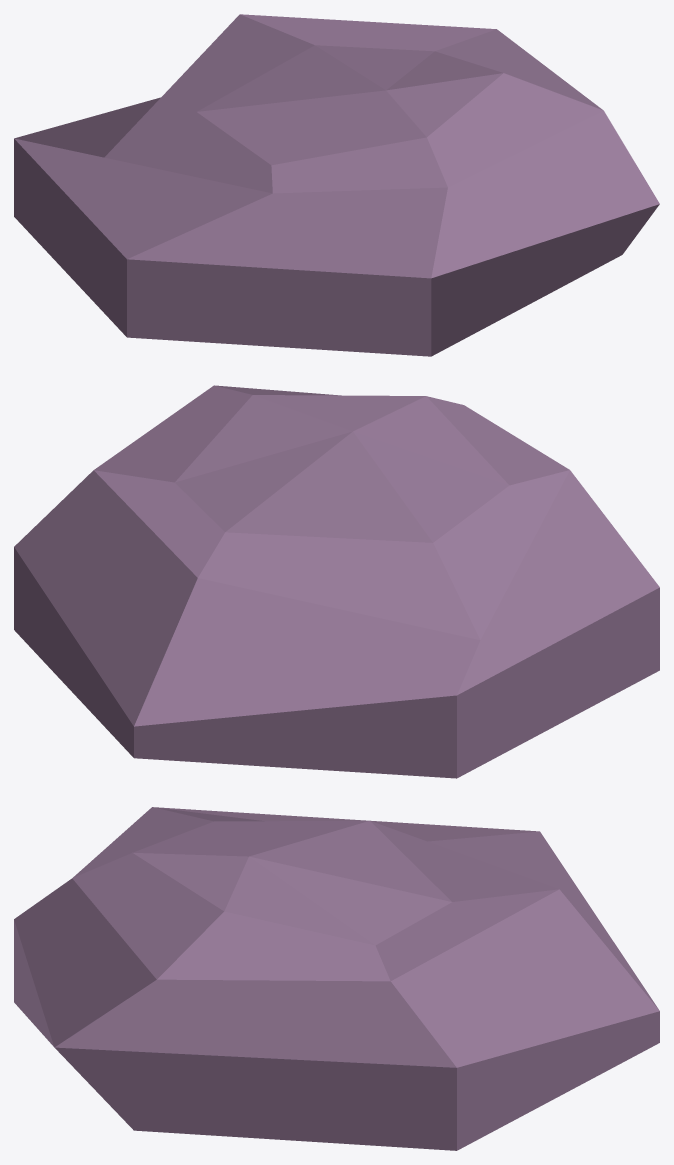
File: rock_3_v1.fbx
3 views of the same model, one above another, from view 1: azimuth 30°, elevation 25°; view 2: azimuth 150°, elevation 25°; view 3: azimuth 270°, elevation 25° (orthographic). The views are drawn at different scales.
Parts seen in each view (by area): view 1: rock_3; view 2: rock_3; view 3: rock_3.
Part boxes in pixels (bbox=[...]): rock_3: bbox=[14, 14, 659, 356]; rock_3: bbox=[14, 385, 659, 778]; rock_3: bbox=[14, 807, 659, 1150].
Size of the model in its own units: 1.24 by 0.4039 by 1.32.
